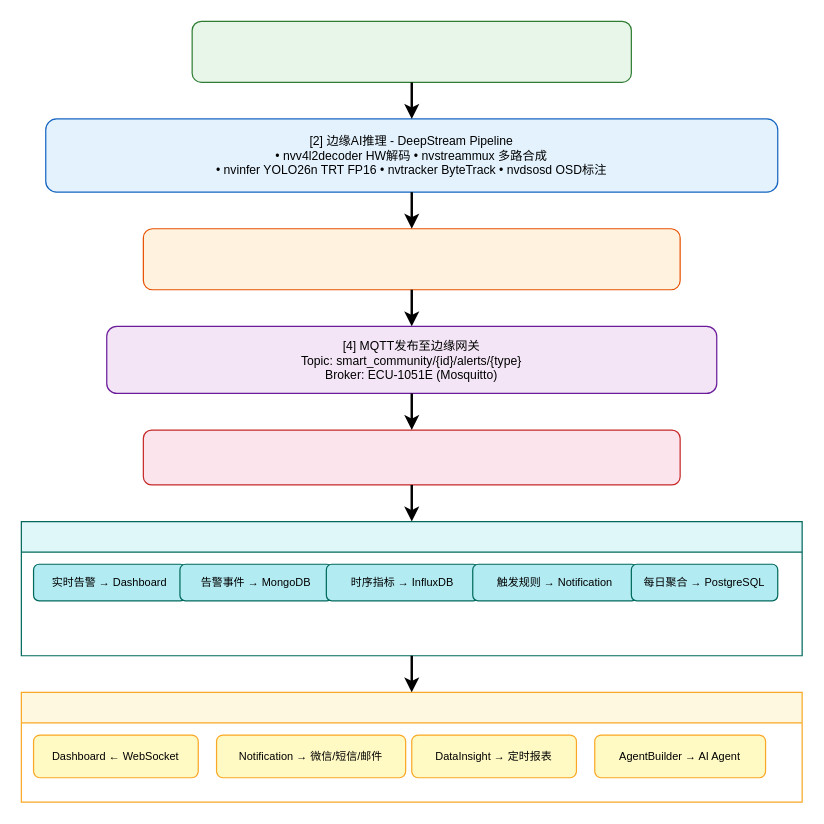
Image size: 824x824. Some labels were removed from this diagram. Each missing label, with the box of its shape:
[1] 感知采集 Gemini 336L @1080p 30fps → GMSL2.0 → Jetson ISP: (191, 20, 631, 82)
[3] 告警规则引擎 (CPU) ROI判断 + 去抖动30帧 + 告警分类 + 事件JSON构建: (142, 228, 680, 290)
[5] IoT Edge MQTT Bridge 转发至WISE-IoT云端DataHub MQTT入口: (142, 429, 680, 485)
[6] 云端处理 - DataHub规则引擎: (20, 520, 802, 656)
[7] 应用层消费: (20, 691, 802, 802)
